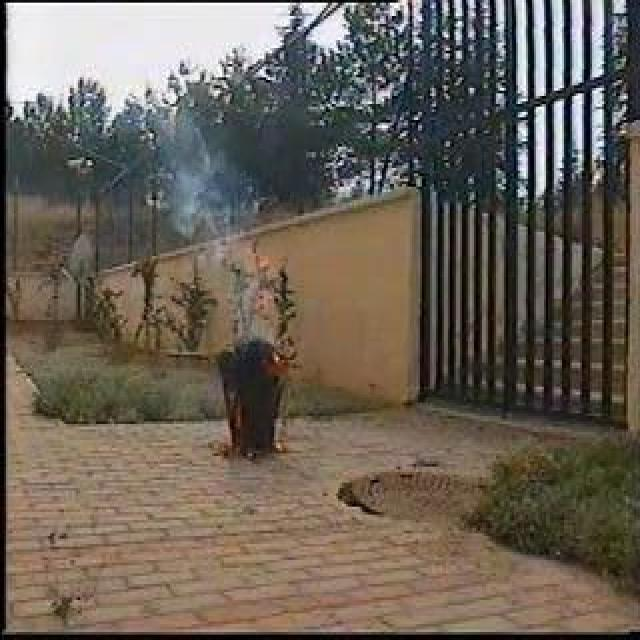smoke: (157, 128, 260, 280)
